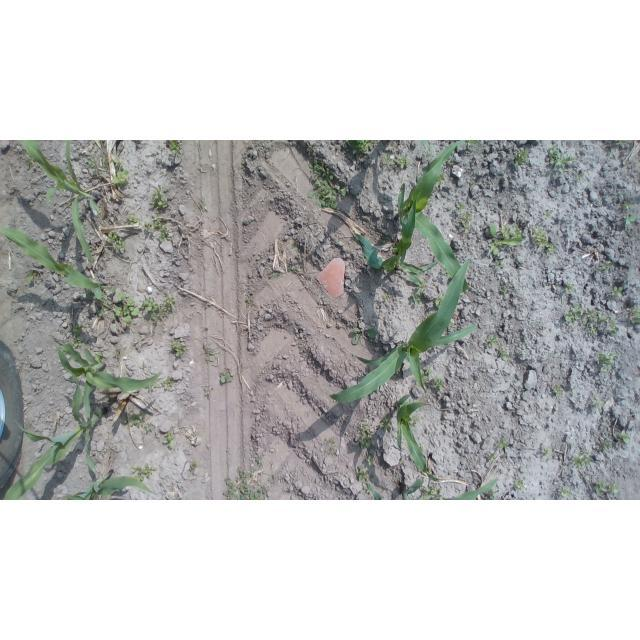Maize: (327, 254, 477, 409), (1, 364, 107, 500), (395, 145, 471, 296), (17, 140, 101, 270), (56, 336, 165, 424), (1, 223, 112, 304), (55, 446, 157, 500), (390, 391, 440, 485), (444, 476, 500, 500)
Weeds: (306, 160, 347, 213), (563, 305, 619, 339), (223, 467, 269, 500), (487, 223, 524, 258), (112, 294, 141, 326), (141, 214, 174, 240), (546, 147, 577, 174), (123, 410, 156, 433), (143, 298, 176, 321), (532, 226, 557, 254), (110, 158, 132, 187), (148, 184, 171, 211), (107, 231, 130, 256), (132, 461, 159, 482), (351, 327, 379, 346), (621, 201, 639, 230), (593, 478, 620, 497), (595, 352, 617, 373), (386, 153, 411, 171), (419, 484, 445, 500), (202, 342, 220, 365), (72, 324, 88, 349), (513, 149, 531, 170), (171, 340, 188, 361), (353, 141, 376, 156), (88, 157, 107, 175), (358, 431, 377, 448), (574, 453, 593, 469), (363, 452, 379, 471), (324, 438, 340, 457), (627, 303, 640, 325), (379, 415, 394, 434), (615, 430, 630, 448), (162, 433, 177, 450), (160, 376, 178, 390), (217, 372, 236, 385), (168, 140, 185, 154), (415, 279, 429, 295), (602, 436, 615, 453), (357, 465, 370, 482), (25, 270, 40, 284), (553, 386, 567, 401), (434, 376, 447, 392), (490, 258, 506, 271), (599, 261, 615, 274), (420, 365, 432, 382), (488, 336, 502, 350), (513, 478, 528, 491), (458, 215, 471, 230), (559, 486, 572, 500), (486, 487, 500, 500), (435, 174, 449, 187), (455, 201, 470, 213), (612, 286, 624, 301), (412, 291, 423, 307), (498, 439, 511, 452), (433, 294, 446, 307), (539, 447, 554, 458), (128, 213, 139, 227), (97, 308, 109, 320), (268, 268, 280, 280), (498, 346, 510, 358), (382, 292, 393, 305), (111, 347, 122, 360), (288, 265, 301, 276), (254, 457, 267, 468), (565, 283, 576, 296), (593, 398, 604, 411), (609, 141, 629, 148), (244, 294, 252, 311), (189, 461, 201, 472), (200, 299, 212, 309), (575, 171, 586, 181), (139, 360, 149, 371), (499, 284, 509, 295), (107, 288, 119, 297), (357, 422, 369, 431), (543, 210, 553, 220), (486, 452, 497, 461), (201, 204, 210, 213), (469, 178, 477, 188), (365, 486, 374, 494), (411, 418, 420, 426), (440, 268, 448, 275), (503, 454, 510, 462), (449, 321, 454, 327)
